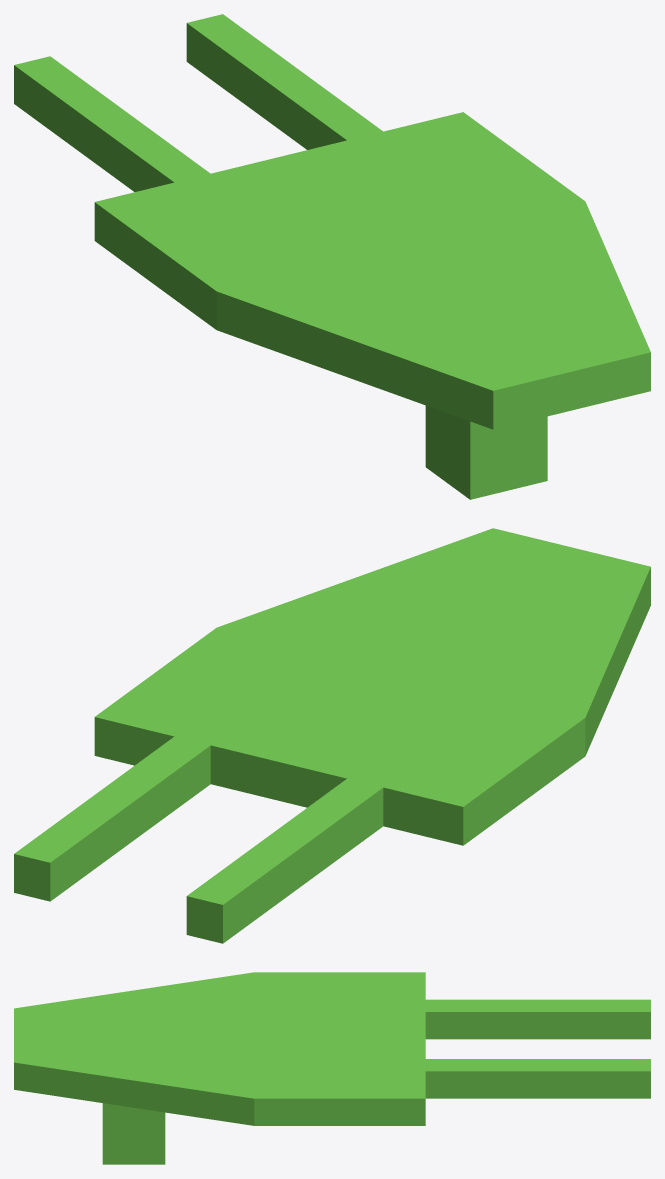
Rendered from Weapon.fbx.
3 views of the same model, one above another, from view 1: azimuth 30°, elevation 25°; view 2: azimuth 150°, elevation 25°; view 3: azimuth 270°, elevation 25° (orthographic). The views are drawn at different scales.
Parts seen in each view (by area): view 1: Cube; view 2: Cube; view 3: Cube.
Boxes of the visible parts, box(x1,y1,x2,y2) form: Cube: box(14, 14, 650, 499); Cube: box(14, 528, 650, 943); Cube: box(14, 972, 650, 1164).
Bounding box in the file's own units: 2.77 × 1.18 × 5.9.
